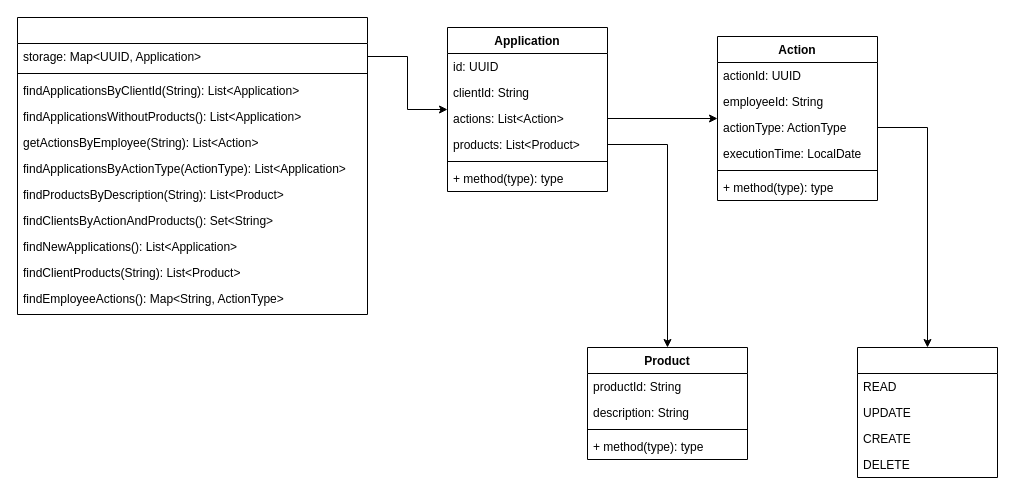
This 1015x498 diagram has some shape labels left out. The shapes that lost their labels are listed below. From the top down, each one's box as (x1, y1, x2, y2) in pixels, then its label:
(16, 16, 368, 314): OrderService
(856, 346, 998, 478): ActionType: enum
